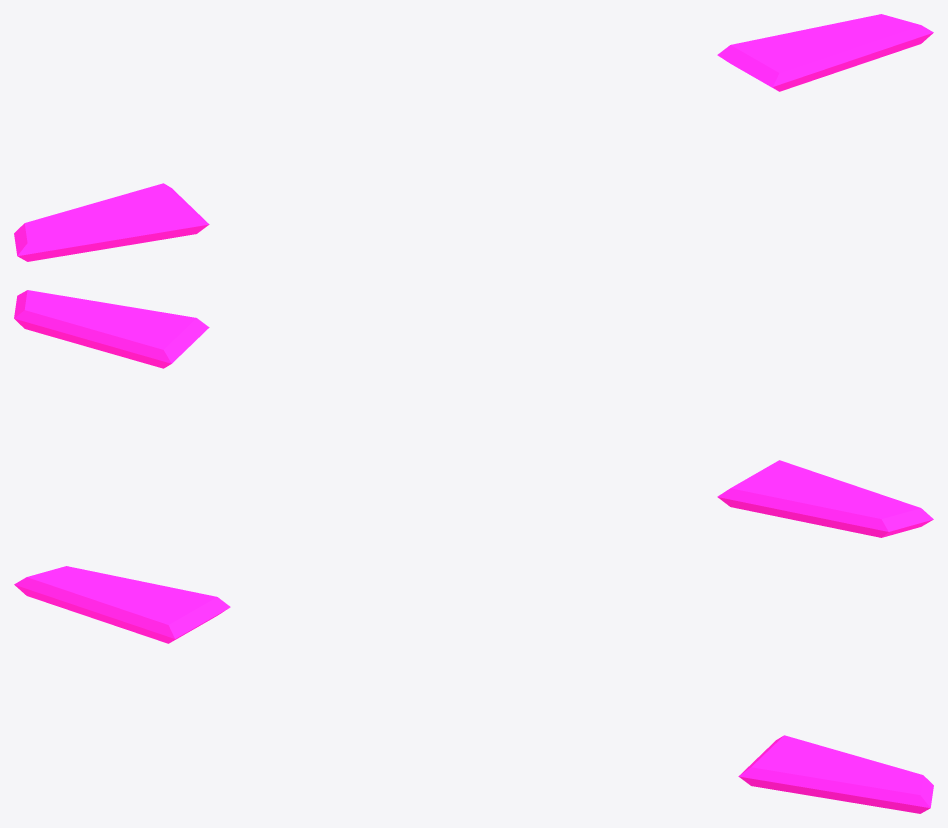
Rendered from player_upgrade_spread_shot.glb.
The picture shows the model from 3 angles, top to bottom: view 1: azimuth 30°, elevation 25°; view 2: azimuth 150°, elevation 25°; view 3: azimuth 330°, elevation 25°; orthographic projection.
Visible parts, largest first — view 1: PLAYER UPGRADE // SPREAD EMITTERS; view 2: PLAYER UPGRADE // SPREAD EMITTERS; view 3: PLAYER UPGRADE // SPREAD EMITTERS.
Part boxes in pixels (x1=…): PLAYER UPGRADE // SPREAD EMITTERS: x1=14, y1=14, x2=933, y2=261; PLAYER UPGRADE // SPREAD EMITTERS: x1=14, y1=290, x2=933, y2=537; PLAYER UPGRADE // SPREAD EMITTERS: x1=14, y1=566, x2=933, y2=813.
Size of the model in its own units: 6.12 by 0.12 by 0.54.
